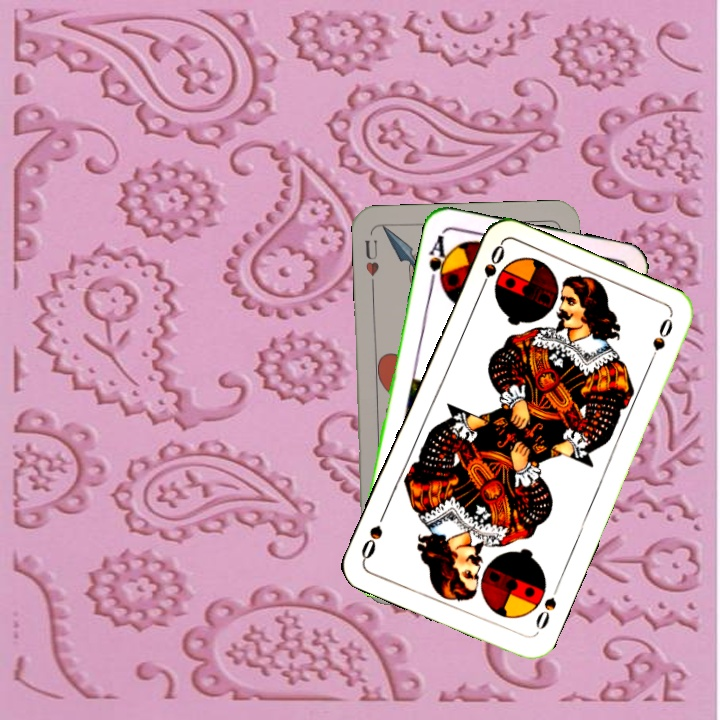HU: (361, 235, 382, 289)
SA: (425, 228, 454, 289)
SO: (474, 241, 507, 297), (531, 593, 559, 637)
